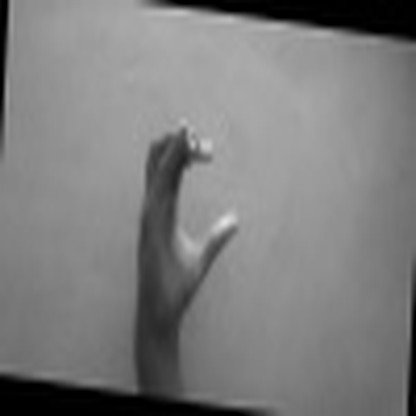c: (131, 110, 244, 309)
